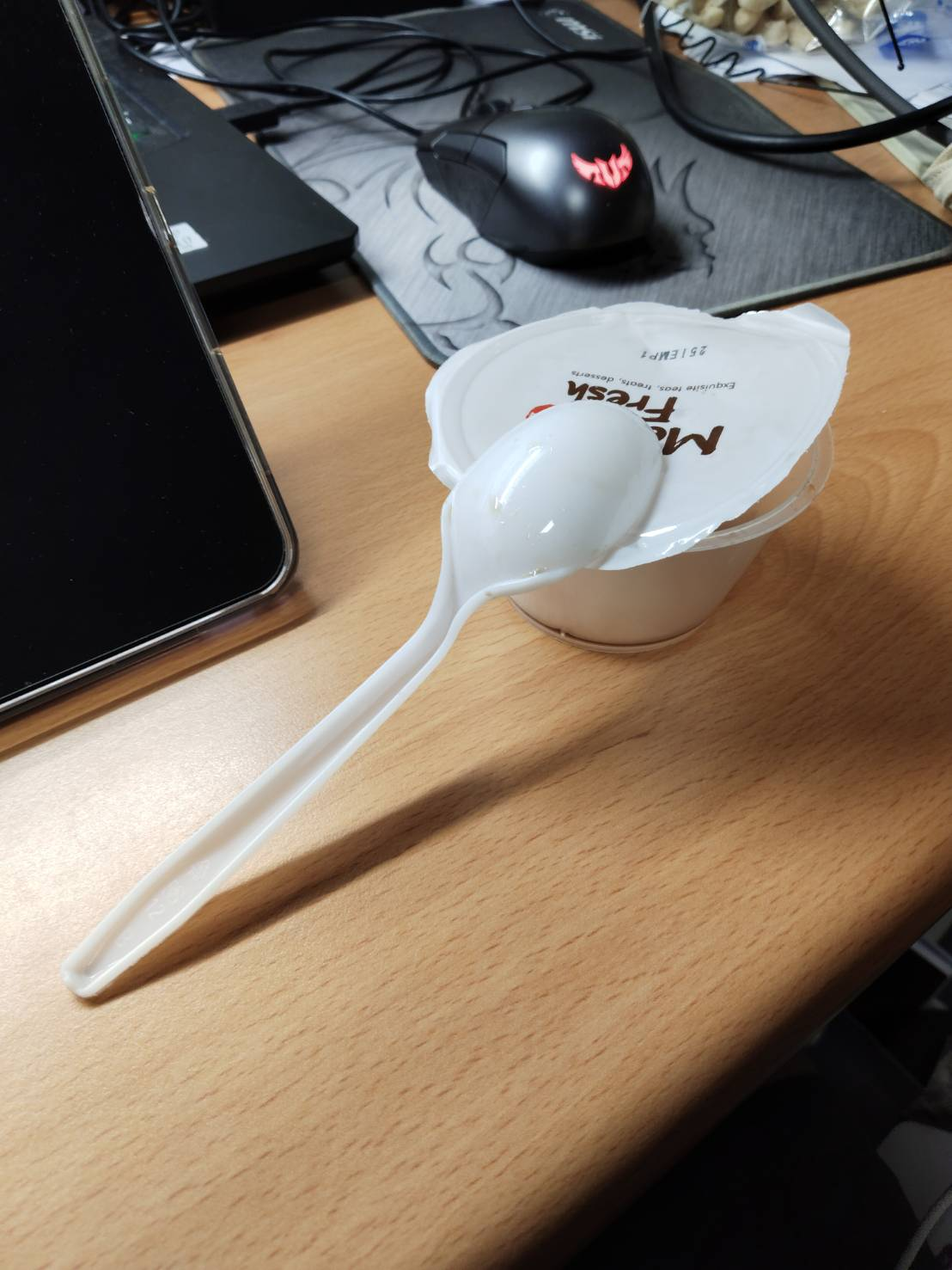plastic: (46, 361, 719, 1029), (358, 267, 836, 705)
